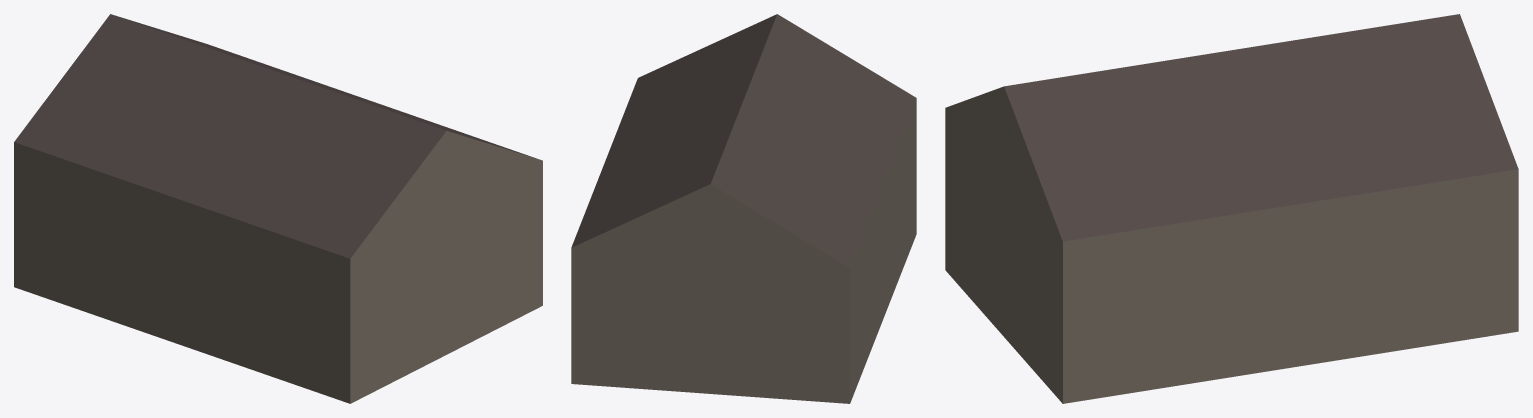
3 views of the same model, side by side, from view 1: azimuth 30°, elevation 25°; view 2: azimuth 150°, elevation 25°; view 3: azimuth 270°, elevation 25° (orthographic). The views are drawn at different scales.
Visible parts, largest first — view 1: HP-w859082459; view 2: HP-w859082459; view 3: HP-w859082459.
Part boxes in pixels (bbox=[...]): HP-w859082459: bbox=[14, 14, 542, 403]; HP-w859082459: bbox=[571, 14, 916, 403]; HP-w859082459: bbox=[945, 14, 1518, 403].
Bounding box in the file's own units: 16.34 × 9.27 × 19.2.
